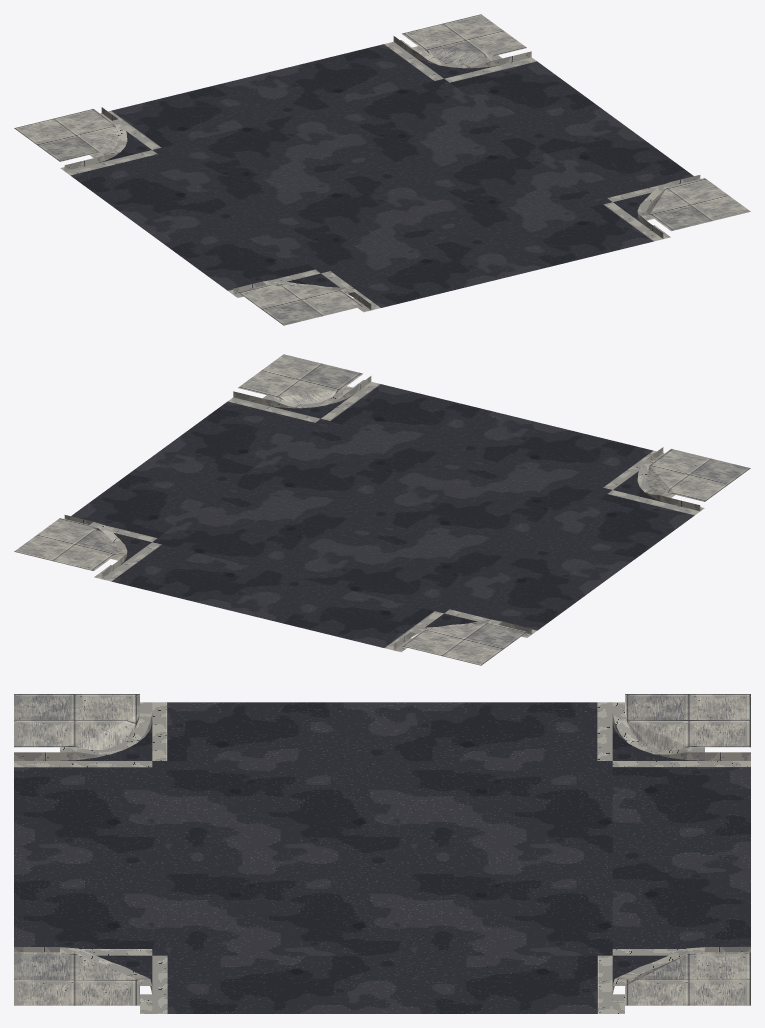
Rendered from RD_Intersection_4Way_12m.obj.
The picture shows the model from 3 angles, top to bottom: view 1: azimuth 30°, elevation 25°; view 2: azimuth 150°, elevation 25°; view 3: azimuth 270°, elevation 25°; orthographic projection. The views are drawn at different scales.
Visible parts, largest first — view 1: RD_Intersection_4Way_12m_Mesh_M_Road_Asphalt, RD_Intersection_4Way_12m_Mesh_M_Road_SidewalkConcrete, RD_Intersection_4Way_12m_Mesh_M_Road_CurbConcrete; view 2: RD_Intersection_4Way_12m_Mesh_M_Road_Asphalt, RD_Intersection_4Way_12m_Mesh_M_Road_SidewalkConcrete, RD_Intersection_4Way_12m_Mesh_M_Road_CurbConcrete; view 3: RD_Intersection_4Way_12m_Mesh_M_Road_Asphalt, RD_Intersection_4Way_12m_Mesh_M_Road_SidewalkConcrete, RD_Intersection_4Way_12m_Mesh_M_Road_CurbConcrete.
Part boxes in pixels (left/top/right/bottom): RD_Intersection_4Way_12m_Mesh_M_Road_Asphalt: left=70, top=44, right=693, bottom=307; RD_Intersection_4Way_12m_Mesh_M_Road_SidewalkConcrete: left=14, top=14, right=750, bottom=325; RD_Intersection_4Way_12m_Mesh_M_Road_CurbConcrete: left=60, top=36, right=700, bottom=312; RD_Intersection_4Way_12m_Mesh_M_Road_Asphalt: left=71, top=384, right=694, bottom=647; RD_Intersection_4Way_12m_Mesh_M_Road_SidewalkConcrete: left=14, top=354, right=750, bottom=665; RD_Intersection_4Way_12m_Mesh_M_Road_CurbConcrete: left=64, top=376, right=704, bottom=652; RD_Intersection_4Way_12m_Mesh_M_Road_Asphalt: left=14, top=702, right=750, bottom=1013; RD_Intersection_4Way_12m_Mesh_M_Road_SidewalkConcrete: left=14, top=694, right=750, bottom=1005; RD_Intersection_4Way_12m_Mesh_M_Road_CurbConcrete: left=14, top=702, right=750, bottom=1013.
Bounding box in the file's own units: 12 × 0.15 × 12.
3 materials, 3 textured.
